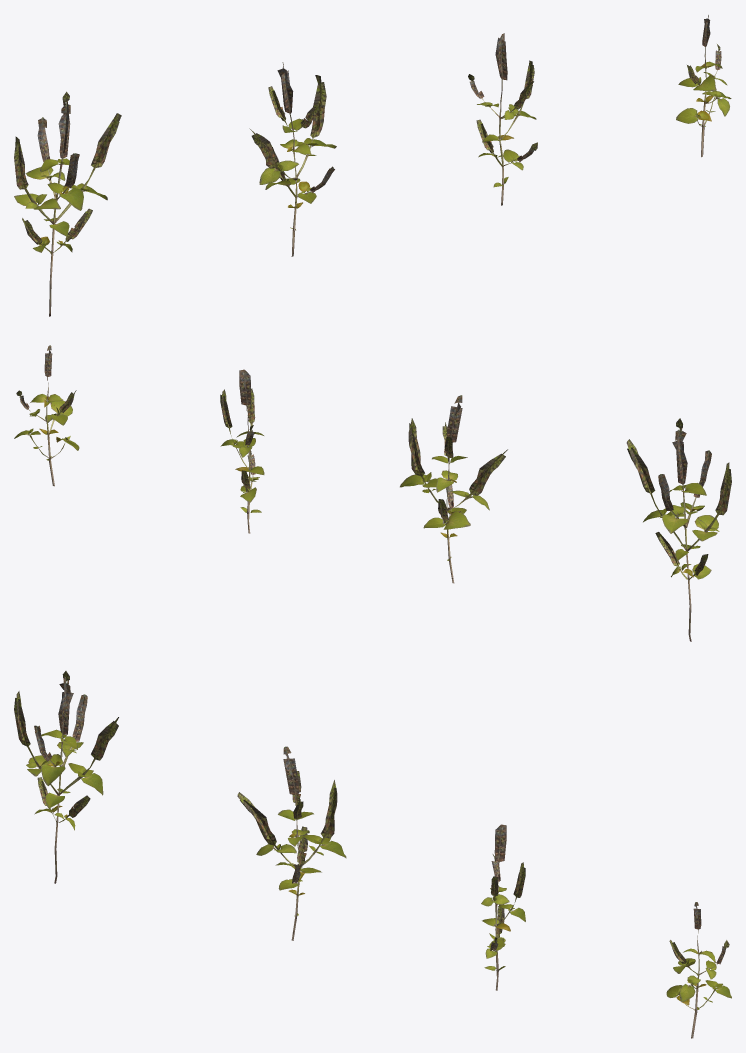
The model's file is shrub_03.lod.glb.
3 renders of one model, top to bottom at view 1: azimuth 30°, elevation 25°; view 2: azimuth 150°, elevation 25°; view 3: azimuth 330°, elevation 25°, orthographic. The views are drawn at different scales.
Parts seen in each view (by area): view 1: shrub_03_a, shrub_03_b, shrub_03_c, shrub_03_d; view 2: shrub_03_a, shrub_03_b, shrub_03_c, shrub_03_d; view 3: shrub_03_a, shrub_03_b, shrub_03_c, shrub_03_d.
Part boxes in pixels (box(x1,y1,x2,y2)): shrub_03_a: box(14, 91, 121, 316); shrub_03_b: box(249, 62, 336, 256); shrub_03_c: box(468, 33, 537, 205); shrub_03_d: box(676, 15, 731, 157); shrub_03_a: box(626, 418, 731, 641); shrub_03_b: box(400, 395, 507, 583); shrub_03_c: box(220, 369, 264, 533); shrub_03_d: box(14, 345, 79, 486); shrub_03_a: box(14, 671, 118, 883); shrub_03_b: box(237, 746, 346, 940); shrub_03_c: box(481, 824, 525, 990); shrub_03_d: box(666, 902, 731, 1038).
Bounding box in the file's own units: 1.37 × 0.4028 × 0.1512.
1 material, 1 textured.
